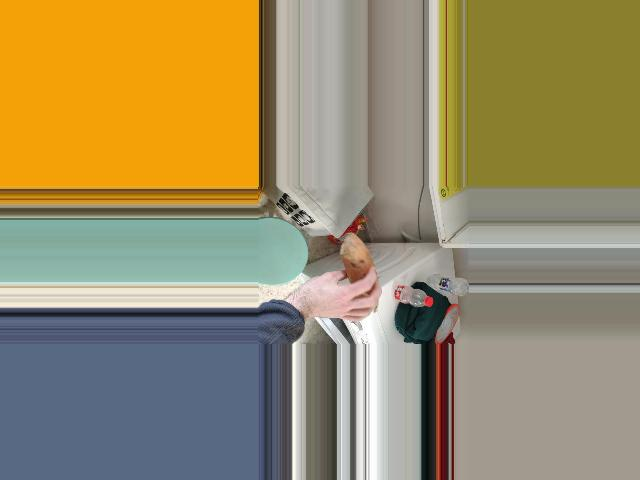sweet_potato: (342, 235, 379, 317)
